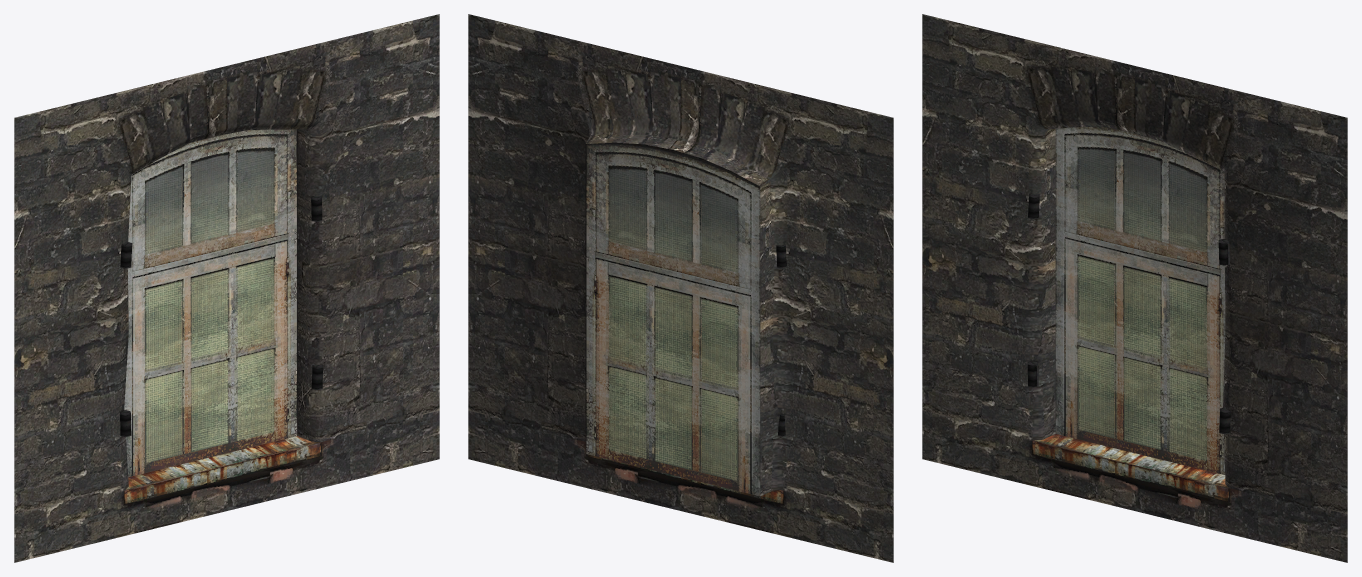
Rendered from factory_facade_01_lit.DAE.
The picture shows the model from 3 angles, left to right: view 1: azimuth 30°, elevation 25°; view 2: azimuth 150°, elevation 25°; view 3: azimuth 330°, elevation 25°; orthographic projection.
Visible parts, largest first — view 1: Object095, Box120, Object096; view 2: Object095, Box120; view 3: Object095, Box120, Object096.
Boxes of the visible parts, x1,y1,x2,y2 form: Object095: (14,14,439,516); Box120: (14,39,439,562); Object096: (120,196,323,437); Object095: (468,14,893,516); Box120: (468,39,893,562); Object095: (922,14,1347,516); Box120: (922,37,1347,562); Object096: (1027,193,1230,434).
Size of the model in its own units: 4 by 4 by 0.247.
